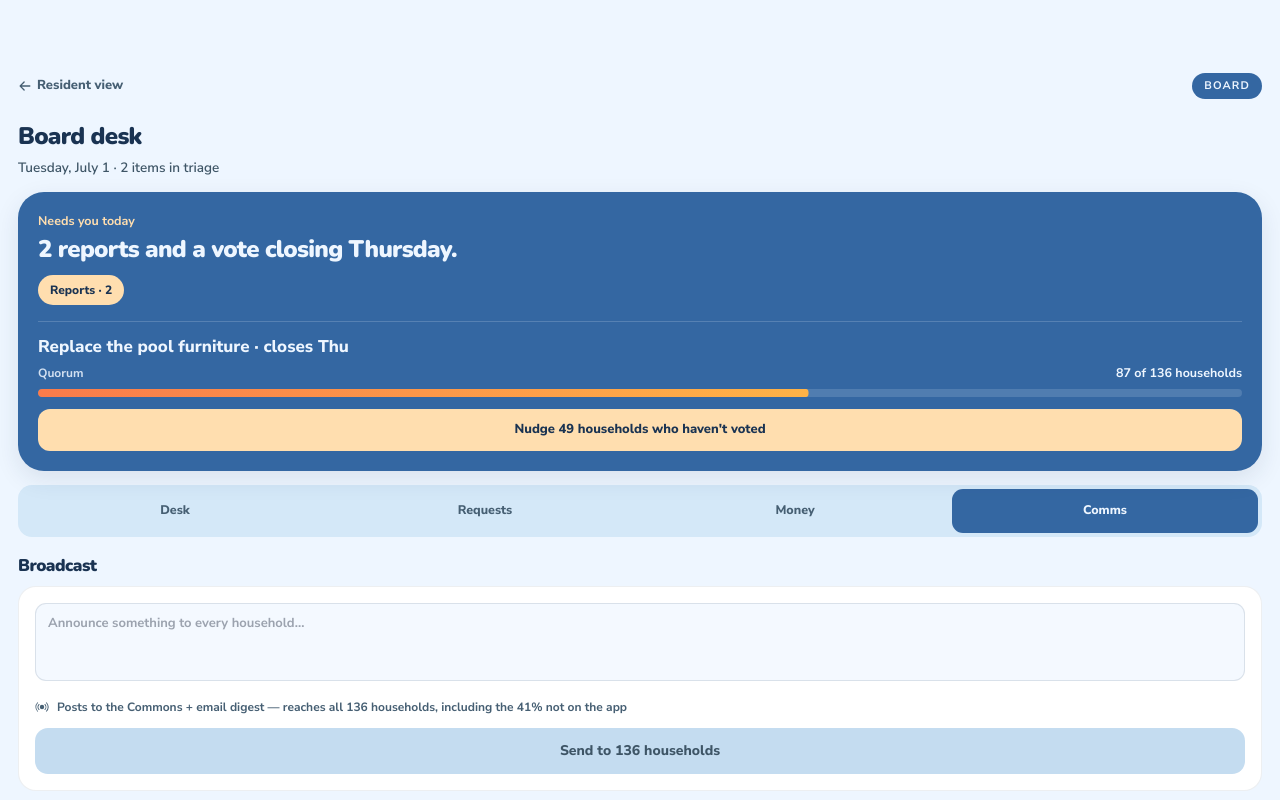
Scenario: broadcast requires text then confirms
Type "Pool closes early Friday" into the text box with placeholder "Announce something to every household…" at (640, 642), box [35,603,1245,681]
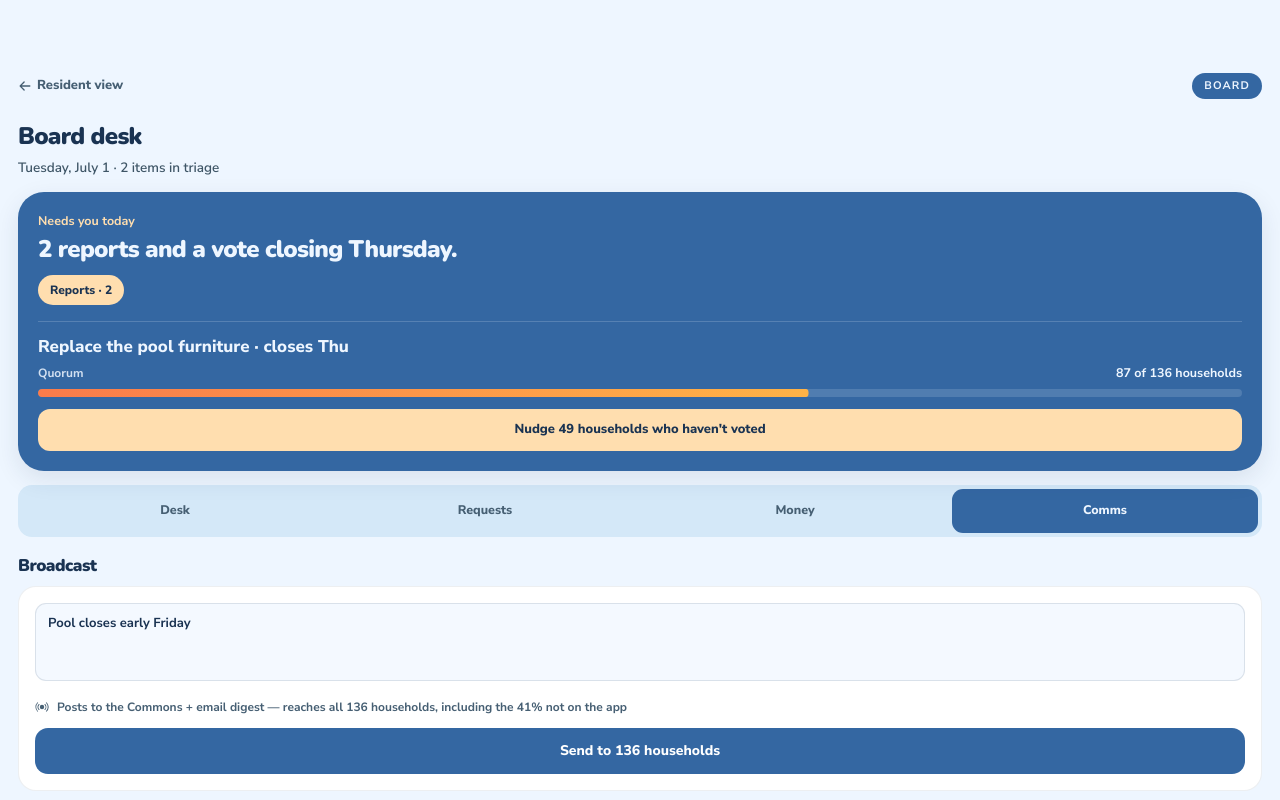
Click the button "Send to 136 households" at (640, 751), box [35,728,1245,774]
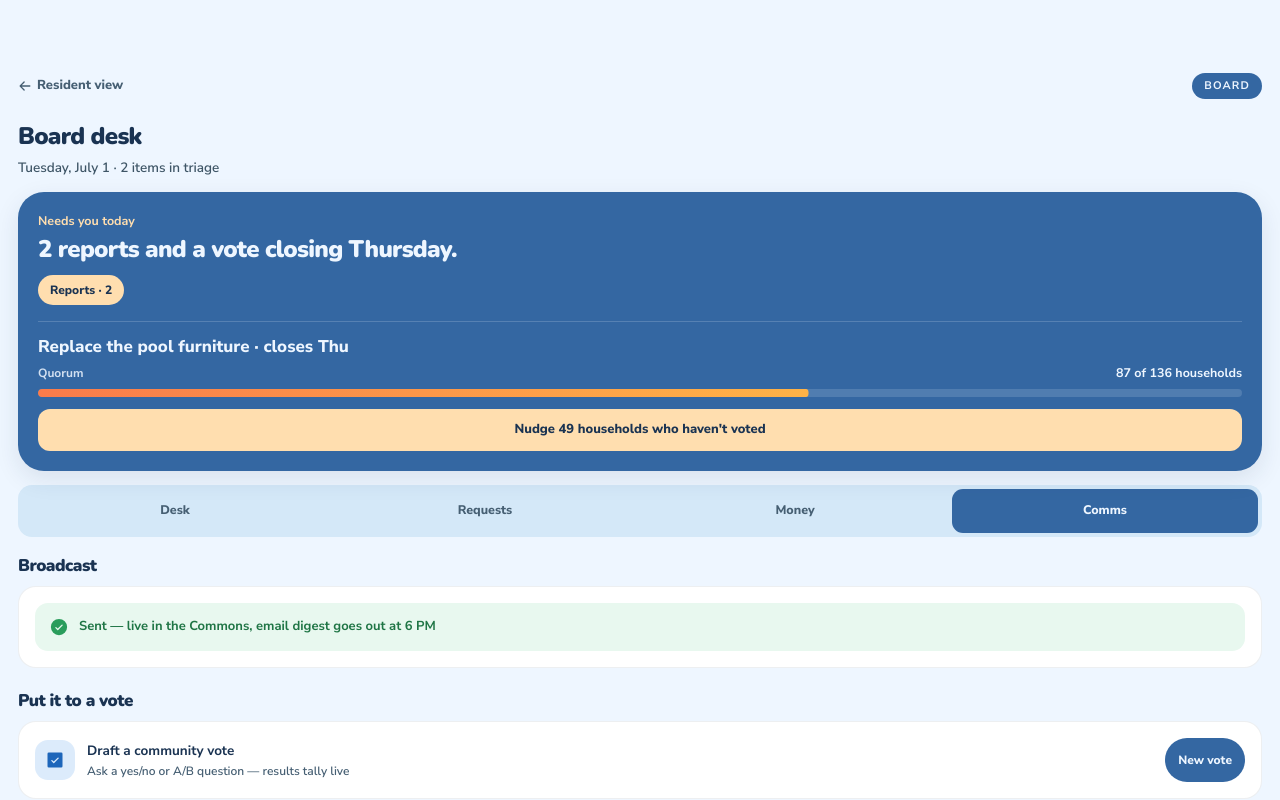
Expected: the text "Sent — live in the Commons, email digest goes out at 6 PM" is shown, [79,617,436,637]
